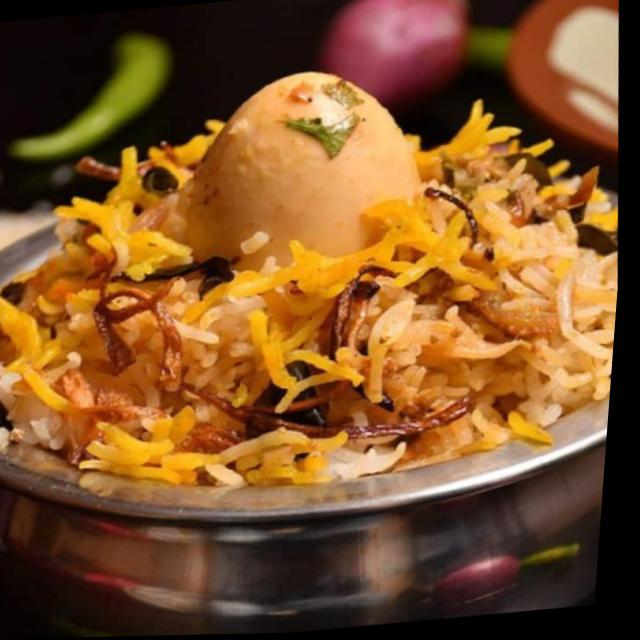BIRIYANI: (0, 103, 616, 484)
EGG: (166, 74, 416, 267)
